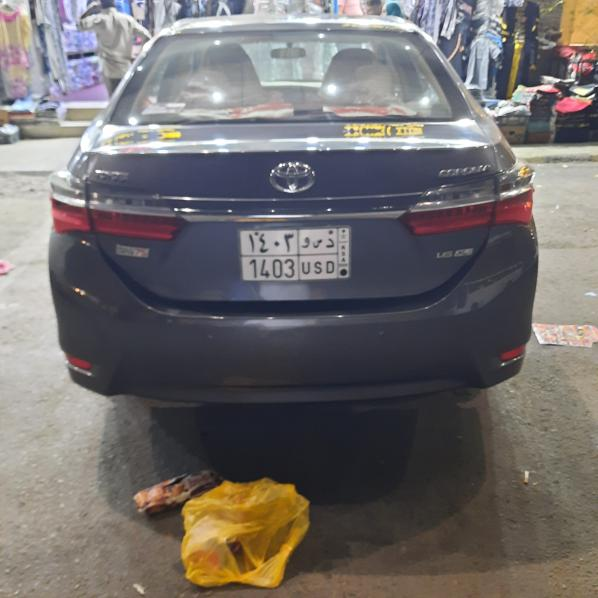numberplate: (240, 231, 351, 280)
